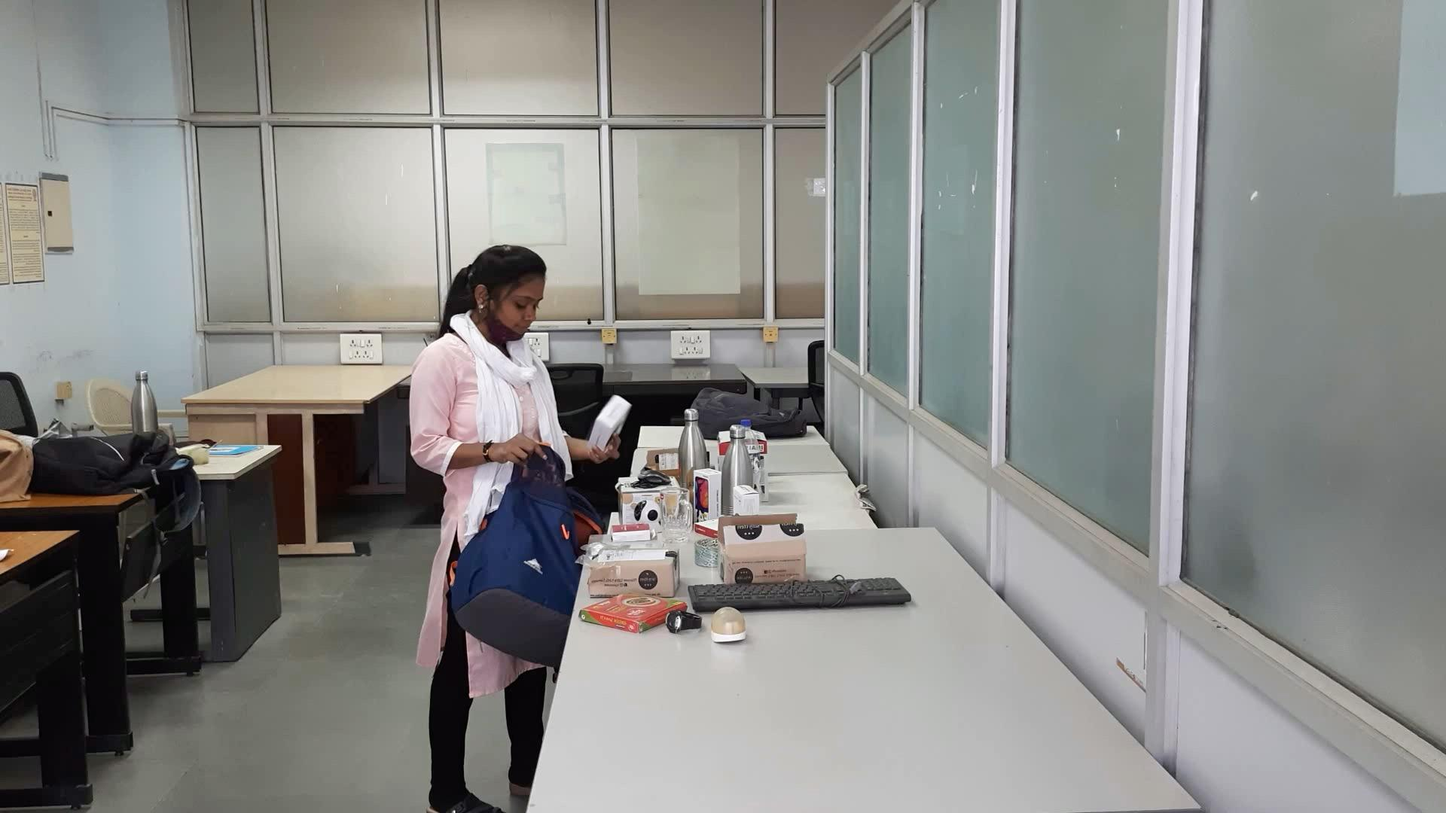shoplifting: (395, 333, 731, 732)
